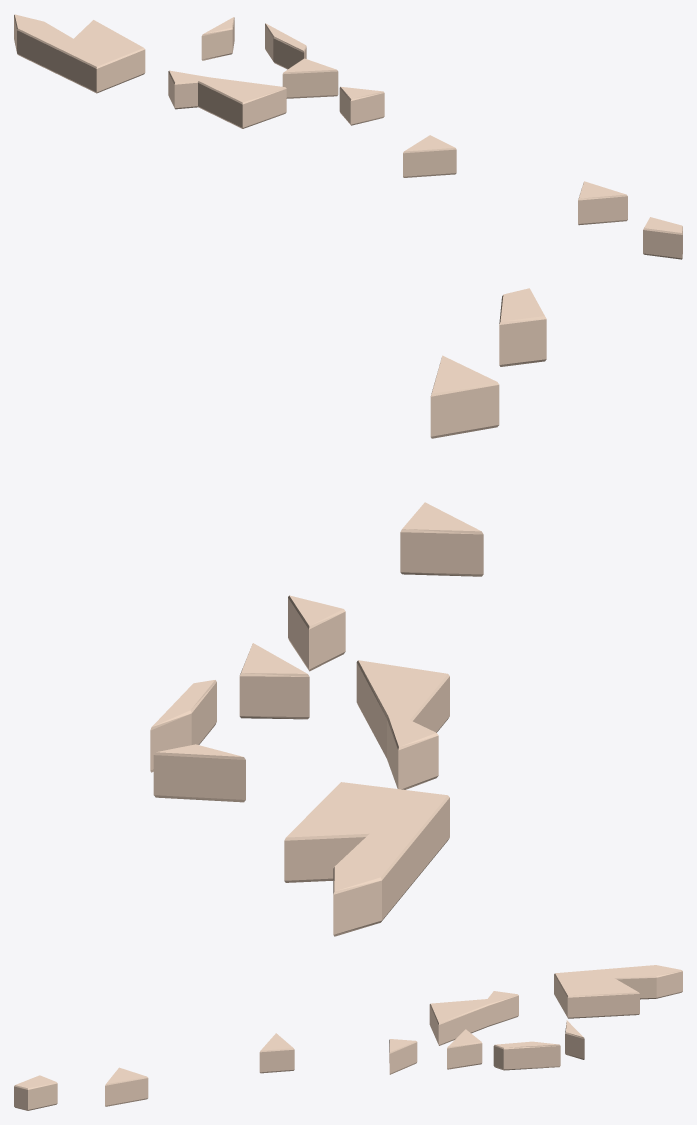
File: VUT.glb
The picture shows the model from 3 angles, top to bottom: view 1: azimuth 30°, elevation 25°; view 2: azimuth 150°, elevation 25°; view 3: azimuth 270°, elevation 25°; orthographic projection. The views are drawn at different scales.
Bounding box in the file's own units: 0.7964 × 0.068 × 1.82.
